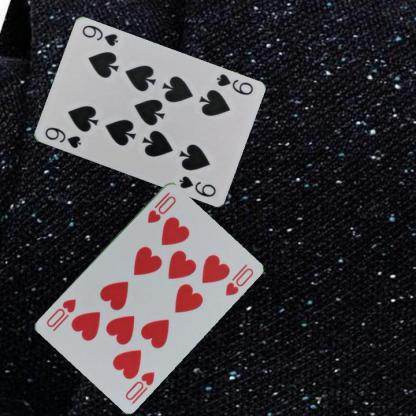10h: (122, 368, 156, 402), (145, 189, 178, 224)
9s: (213, 71, 254, 97), (42, 124, 82, 150)
